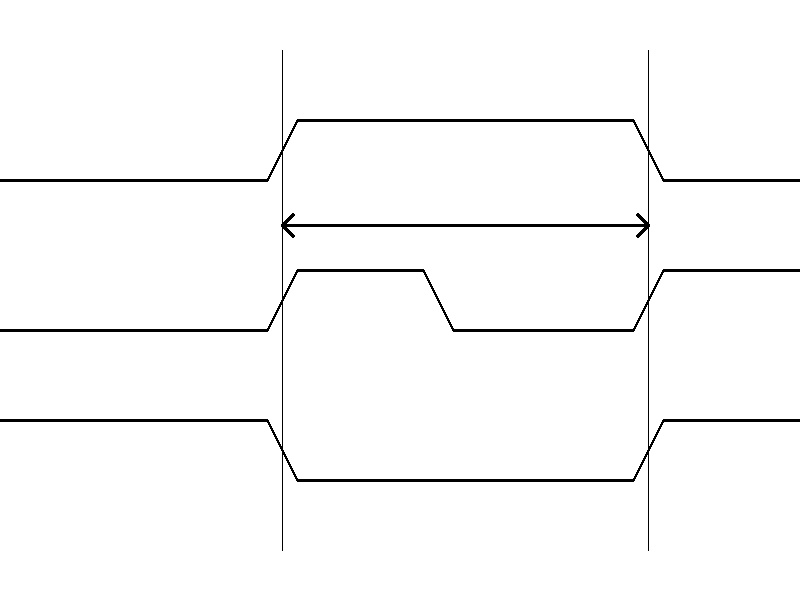double_arrow: (282, 210, 648, 240)
